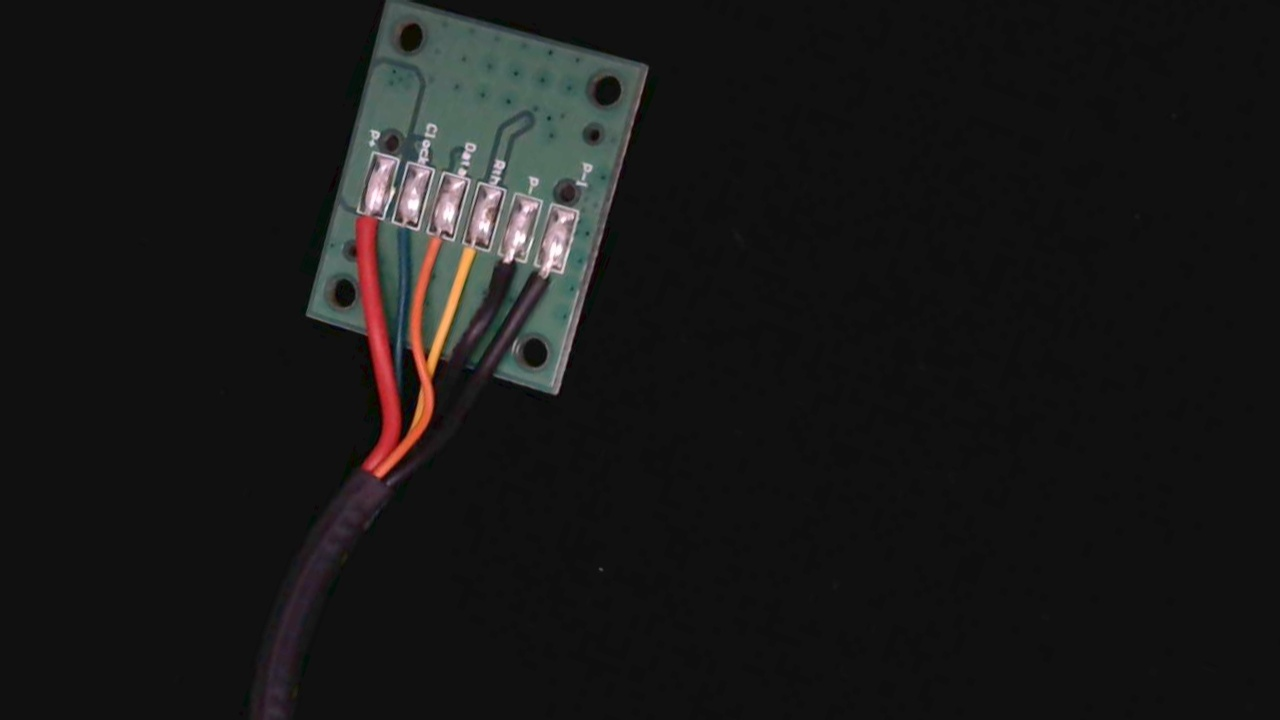Black: (479, 238, 527, 307)
Black1: (514, 250, 565, 320)
Green: (376, 207, 427, 263)
Orange: (409, 217, 457, 278)
Red: (339, 195, 391, 249)
Yellow: (445, 226, 493, 291)
